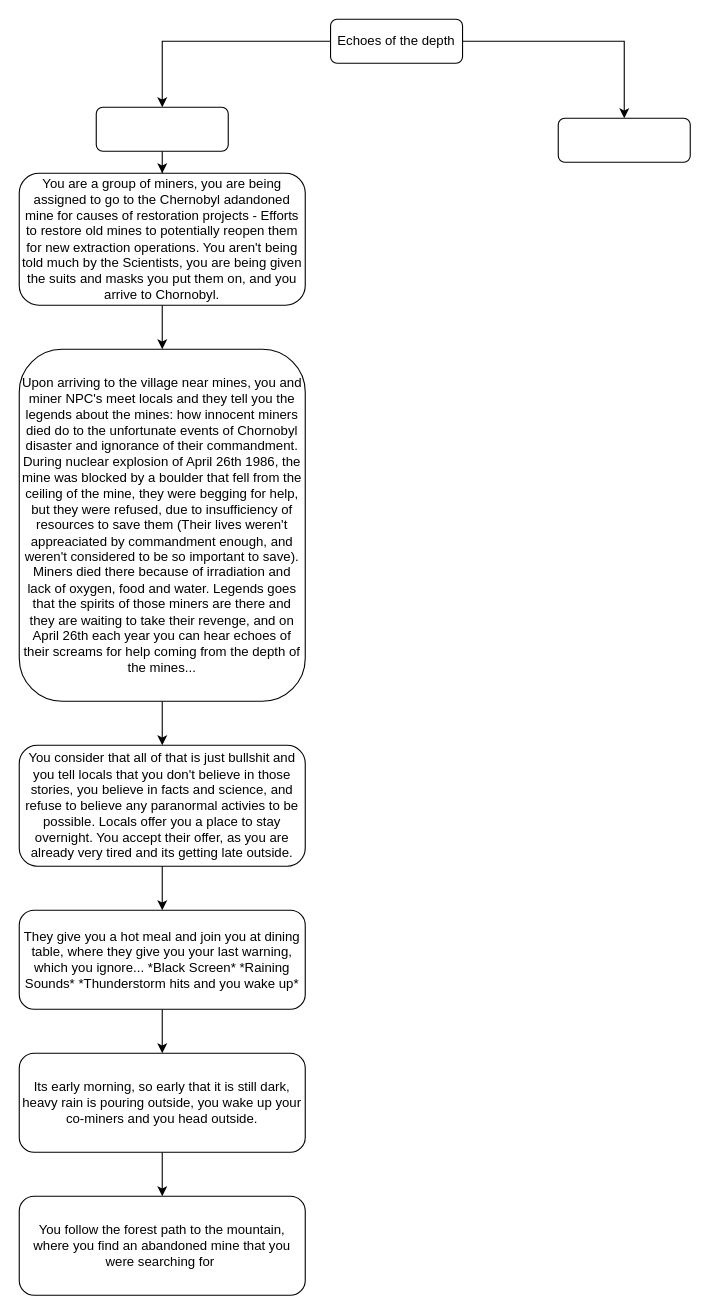
The diagram is 710 pixels wide and 1315 high, and some of its shapes have lost their labels. Each missing label, with the centre of its shape:
"Multiplayer" goes at [623,139].
"Single-Player" goes at [161,128].
